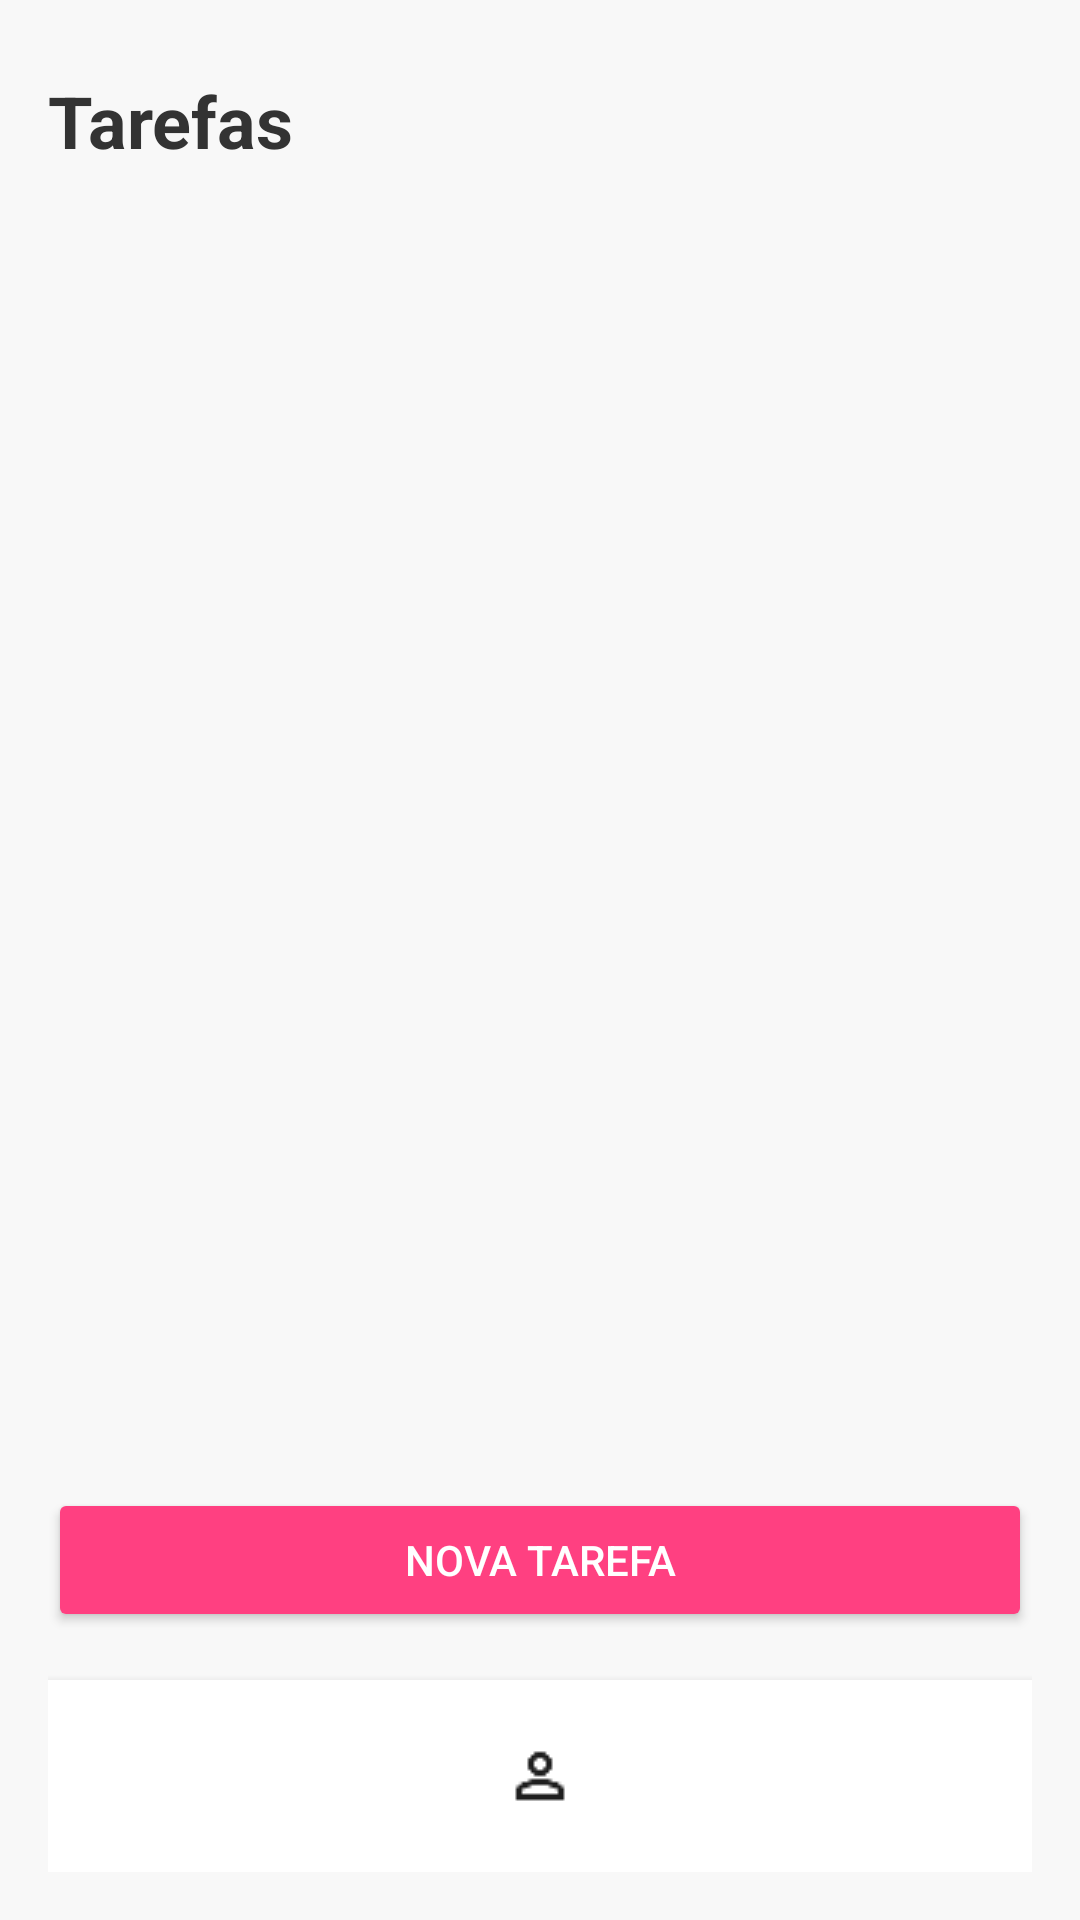

Icon bounding boxes for this 1080 x 1920 phone screenshot, format (x1, y1, x2, y2):
Perfil: (515, 1751, 565, 1801)
